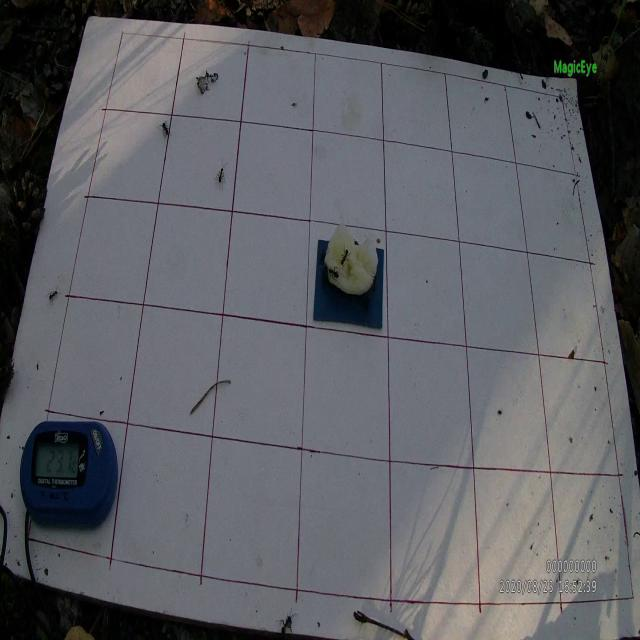Ant: (277, 608, 296, 633), (215, 159, 226, 188), (328, 265, 344, 284), (156, 120, 172, 139), (340, 242, 350, 267), (46, 288, 60, 300)
